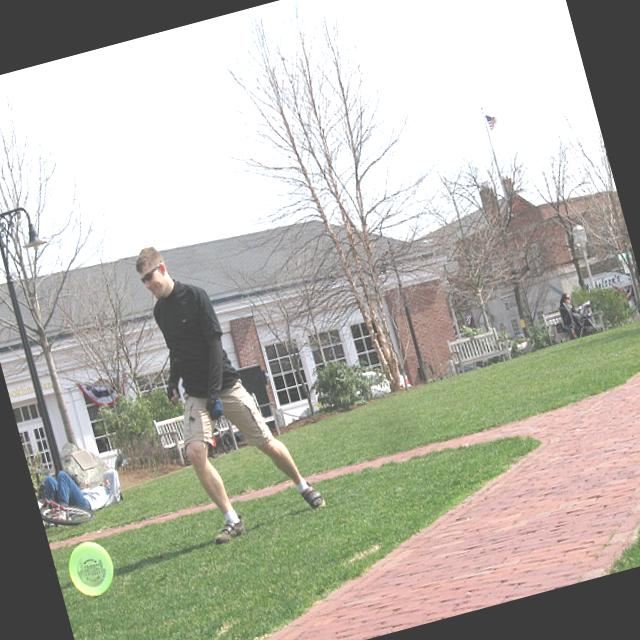Vehicle: (362, 364, 396, 398)
